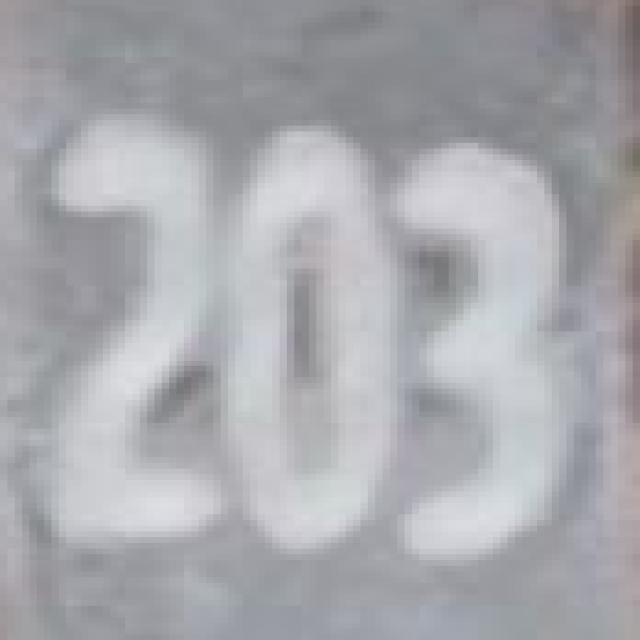character: (31, 103, 230, 561), (392, 138, 576, 565), (229, 121, 397, 557)
